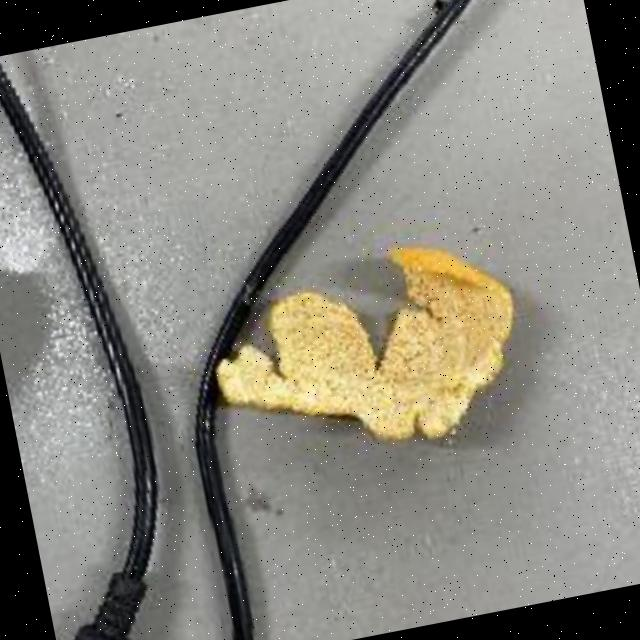orange-peel: (195, 222, 539, 480)
